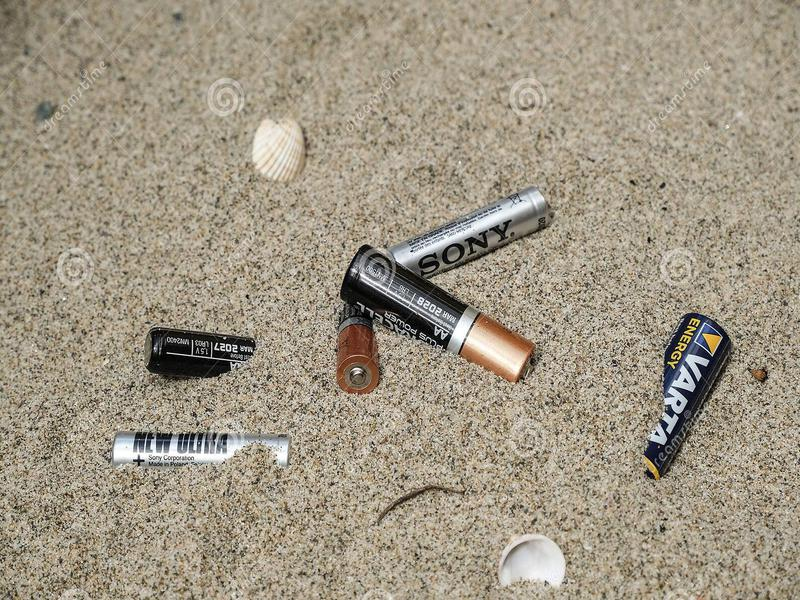battery: (335, 239, 541, 387), (637, 303, 737, 489), (383, 184, 558, 284), (101, 420, 298, 475), (332, 302, 386, 397)
